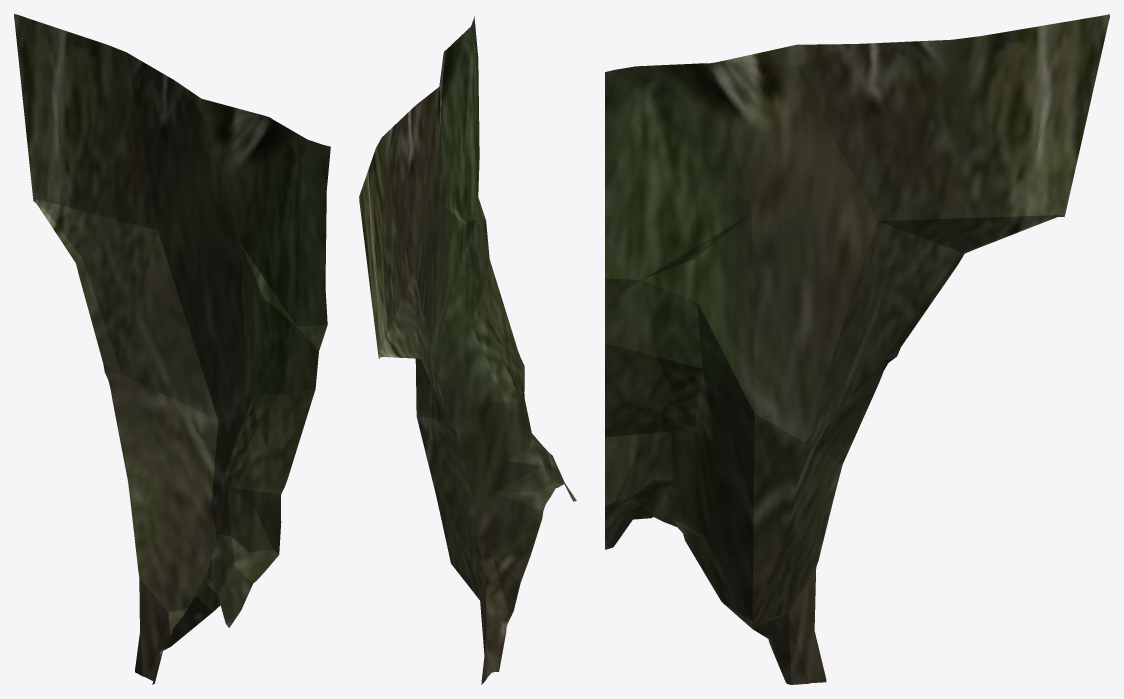
3 renders of one model, left to right at view 1: azimuth 30°, elevation 25°; view 2: azimuth 150°, elevation 25°; view 3: azimuth 270°, elevation 25°, orthographic. The views are drawn at different scales.
Size of the model in its own units: 0.5501 by 2.95 by 2.02.
2 materials, 2 textured.
